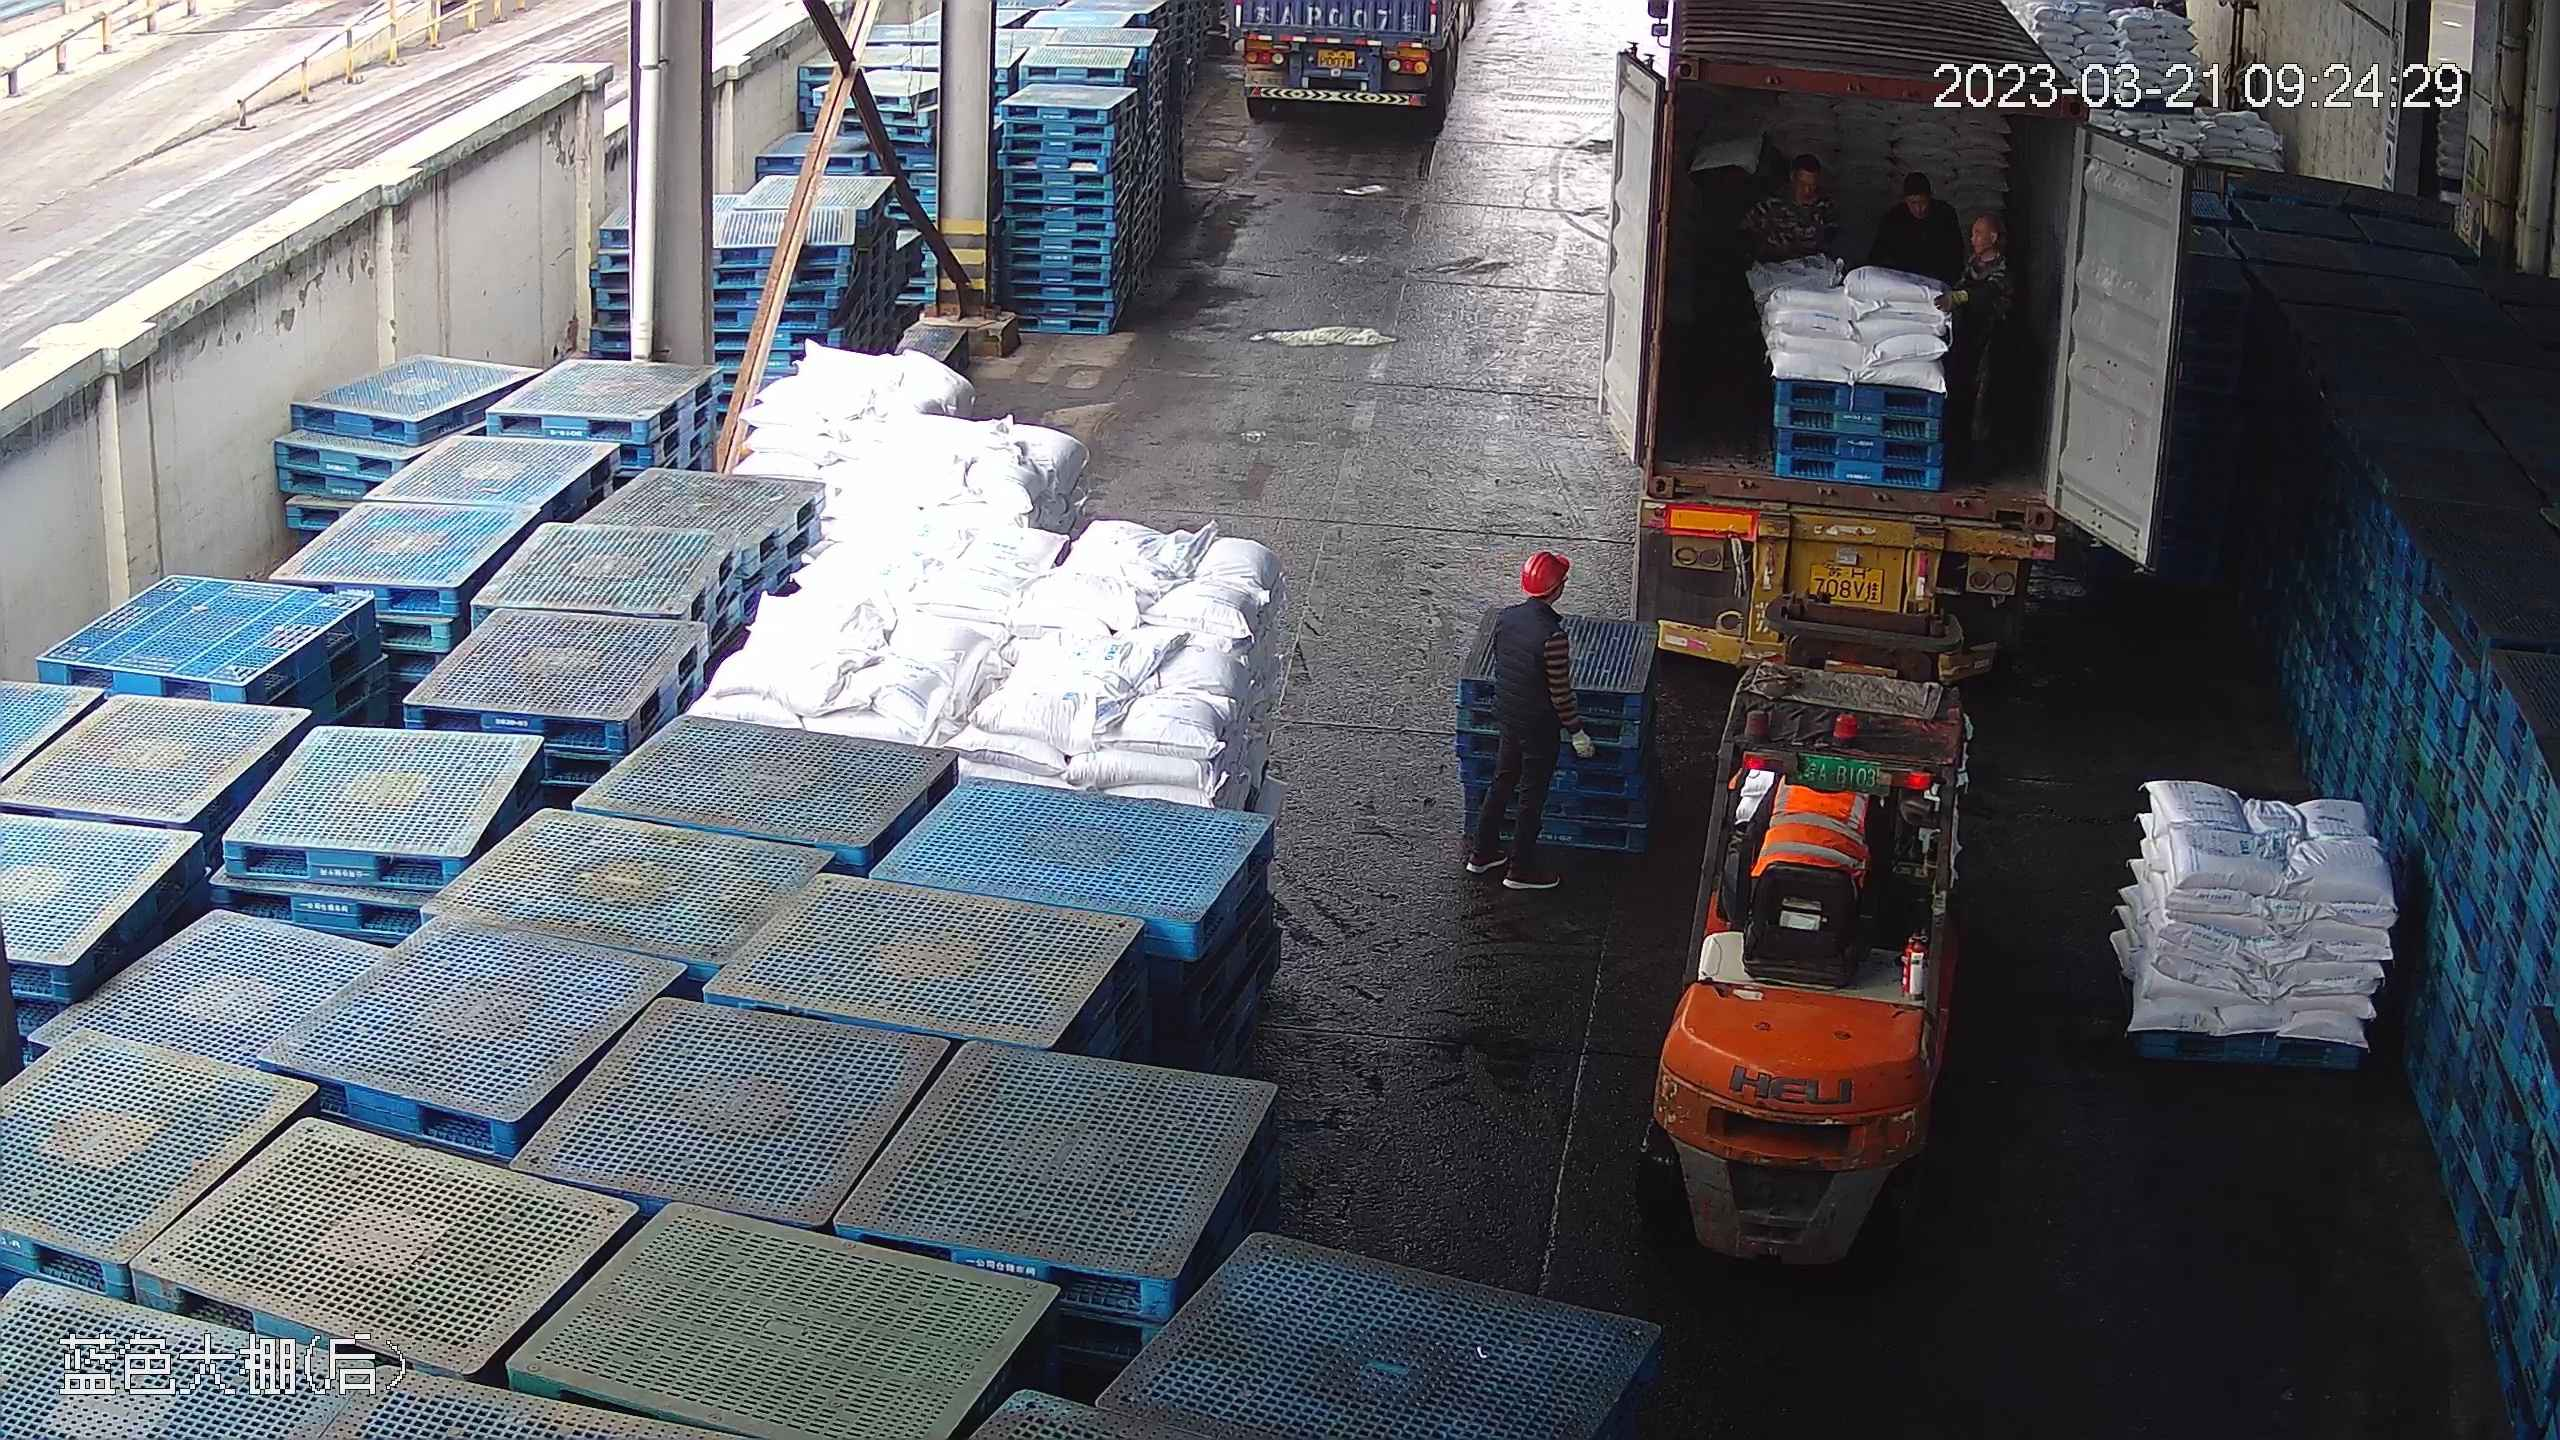head: (1486, 549, 1572, 656), (1876, 169, 1961, 258), (1754, 151, 1834, 238), (1960, 214, 2017, 307)
helmet: (1518, 549, 1570, 589)
people: (1455, 545, 1582, 890), (1940, 213, 2020, 449)
truck: (1609, 23, 2074, 650)
